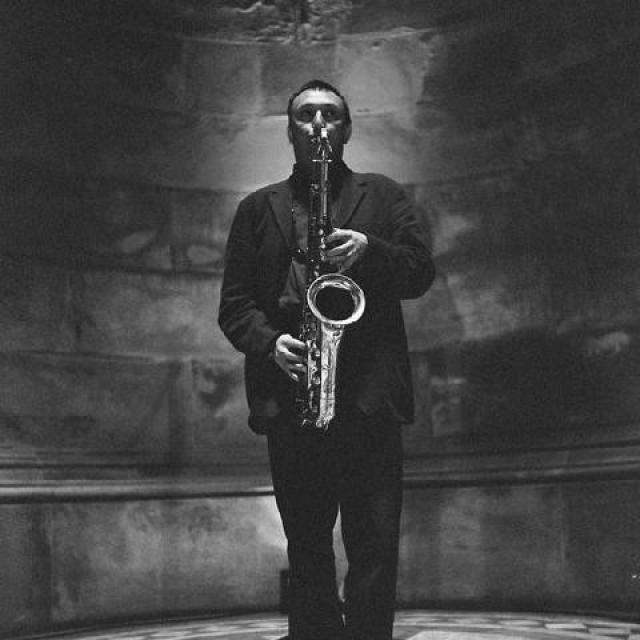saxophone: (284, 125, 368, 438)
